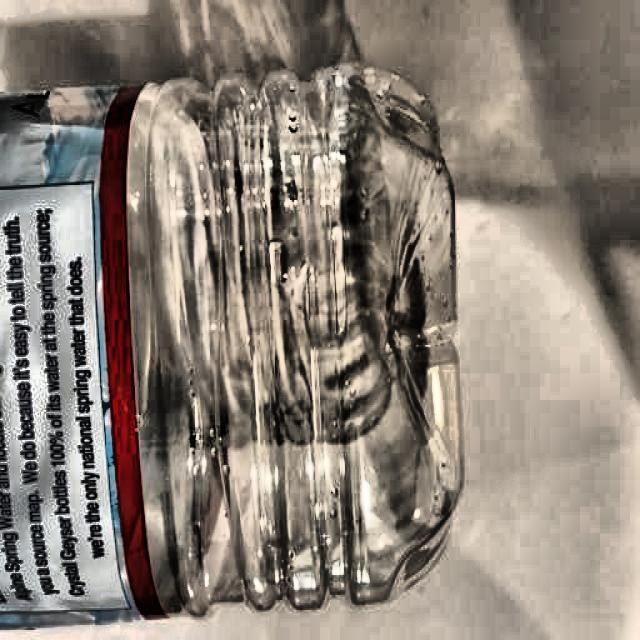plastic: (0, 70, 465, 626)
